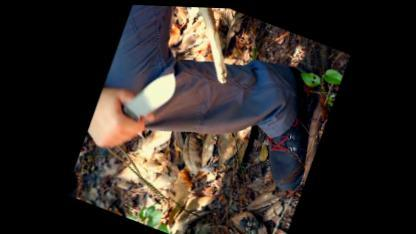knife: (100, 51, 184, 152)
